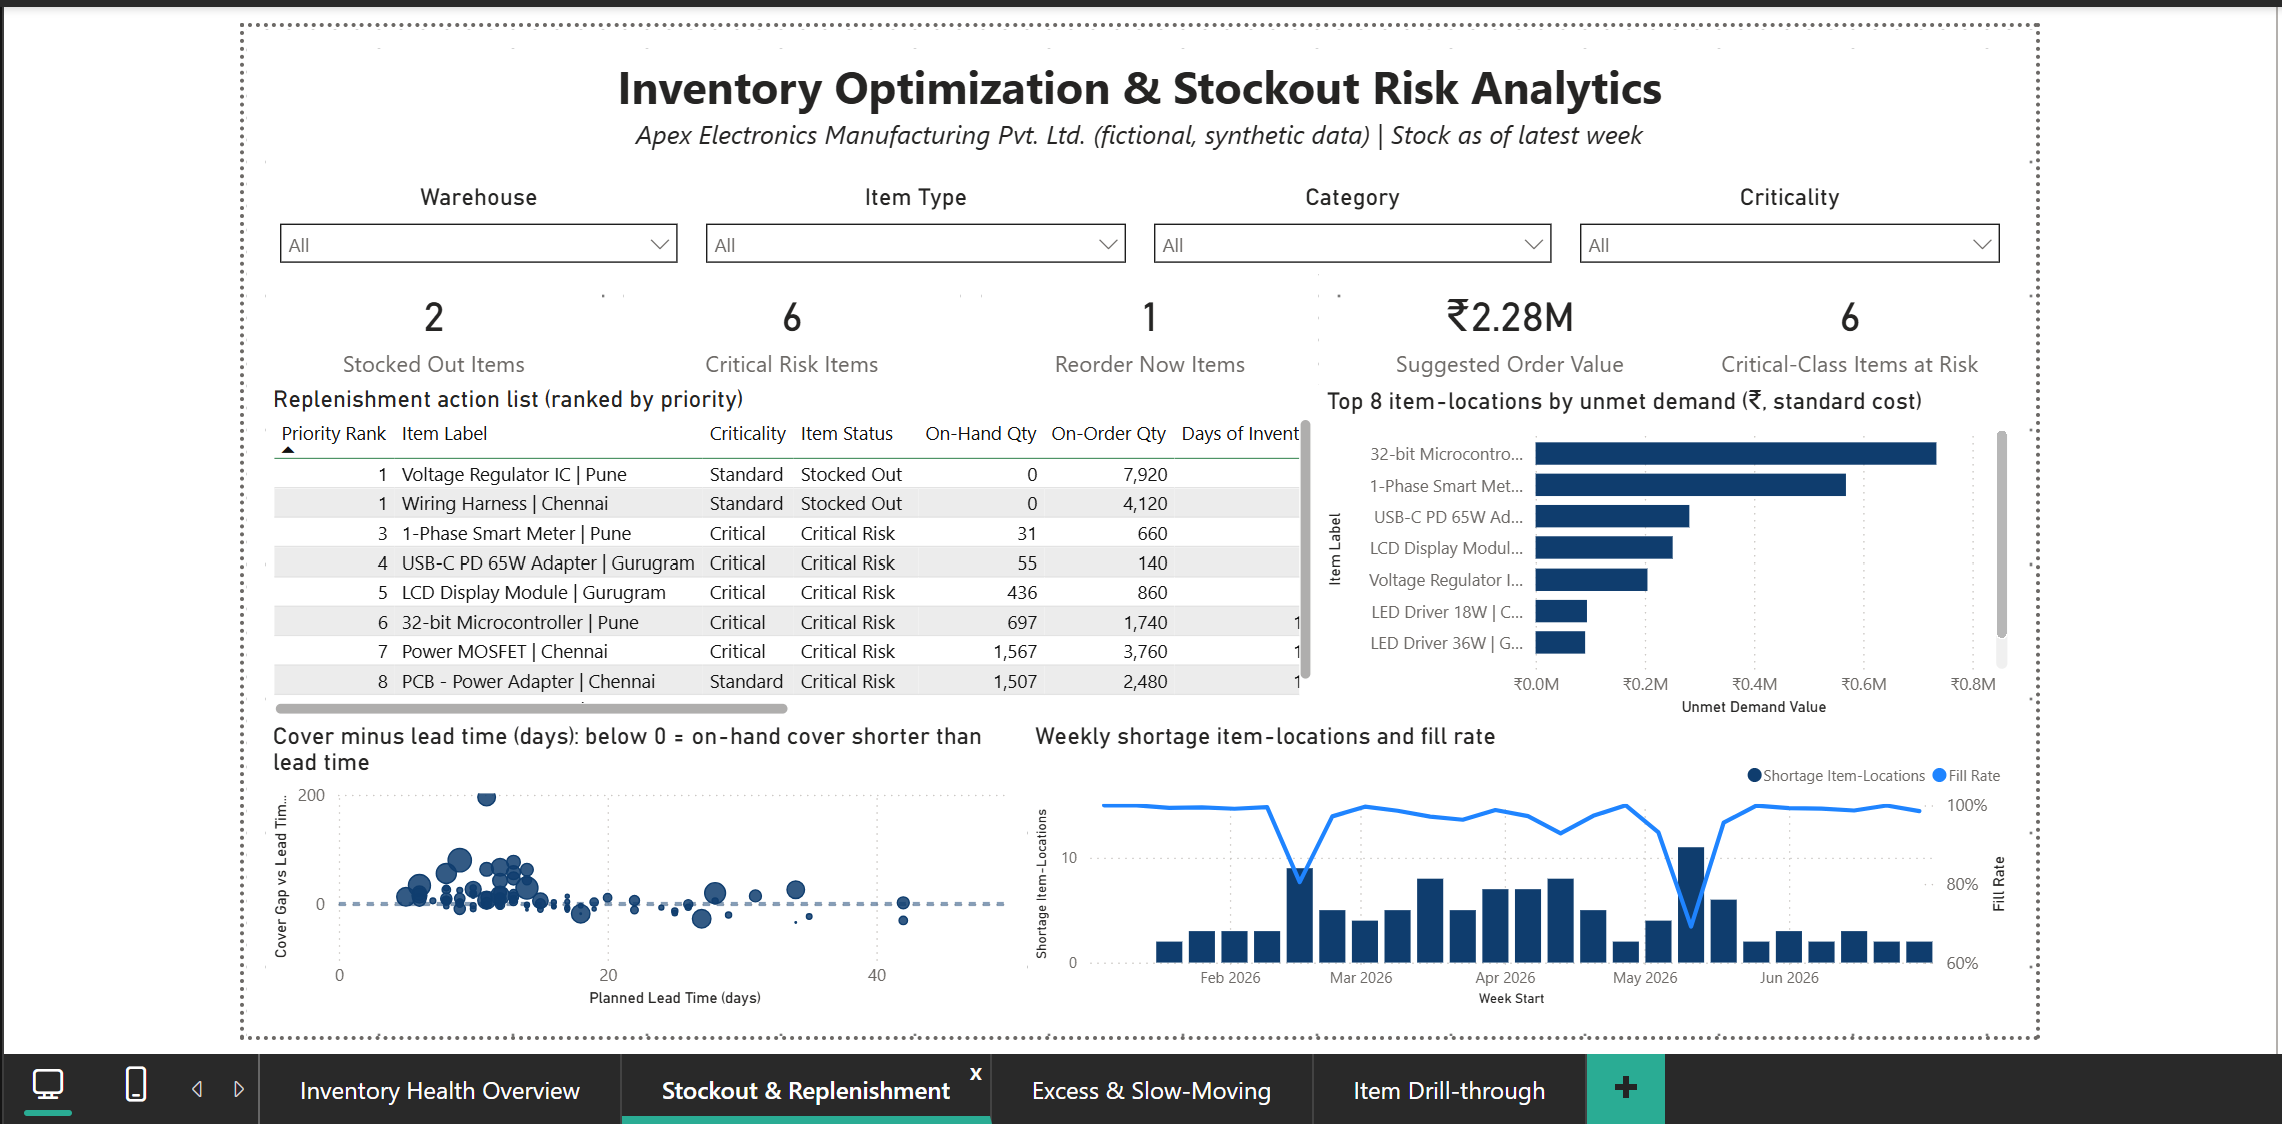

This screenshot's page, from the dashboard's own definition file:
{"tool":"powerbi","page":{"name":"Stockout & Replenishment","canvas":[1280,720],"ordinal":1},"visuals":[{"type":"textbox","box":[16,16,1248,96],"z":0,"group":"g2"},{"type":"card","fields":{"Values":["_Measures.Stocked Out Items"]},"box":[16,176,240,80],"z":0,"group":"g1"},{"type":"tableEx","title":"Replenishment action list (ranked by priority)","fields":{"Values":["_Measures.Priority Rank","dim_item_location.Item Label","dim_item_location.Criticality","_Measures.Item Status","_Measures.On-Hand Qty","_Measures.On-Order Qty","_Measures.Days of Inventory","_Measures.Planned Lead Time (days)","_Measures.Reorder Point Qty","_Measures.Suggested Order Qty","_Measures.Suggested Order Value","_Measures.Recommended Action"]},"box":[16,256,752,240],"z":0},{"type":"slicer","title":"Item Type","fields":{"Values":["dim_item.item_type"]},"box":[320,112,320,65],"z":1000,"group":"g2"},{"type":"group","id":"g1","title":"Group 1","box":[16,176,1248,80],"z":1000},{"type":"card","fields":{"Values":["_Measures.Suggested Order Value"]},"box":[784,176,240,80],"z":1000,"group":"g1"},{"type":"slicer","title":"Category","fields":{"Values":["dim_item.category"]},"box":[640,112,304,65],"z":2000,"group":"g2"},{"type":"card","fields":{"Values":["_Measures.Critical Risk Items"]},"box":[272,176,240,80],"z":2000,"group":"g1"},{"type":"clusteredBarChart","title":"Top 8 item-locations by unmet demand (₹, standard cost)","fields":{"Category":["dim_item_location.Item Label"],"Y":["_Measures.Unmet Demand Value"]},"box":[768,256,496,240],"z":2000},{"type":"slicer","title":"Warehouse","fields":{"Values":["dim_warehouse.city"]},"box":[16,112,304,65],"z":3000,"group":"g2"},{"type":"card","fields":{"Values":["_Measures.Reorder Now Items"]},"box":[528,176,240,80],"z":3000,"group":"g1"},{"type":"scatterChart","title":"Cover minus lead time (days): below 0 = on-hand cover shorter than lead time","fields":{"X":["_Measures.Planned Lead Time (days)"],"Y":["_Measures.Cover Gap vs Lead Time (days)"],"Size":["_Measures.On-Hand Value"],"Category":["dim_item_location.Item Label"]},"box":[16,496,544,208],"z":3000},{"type":"slicer","title":"Criticality","fields":{"Values":["dim_item.criticality"]},"box":[944,112,320,65],"z":4000,"group":"g2"},{"type":"card","fields":{"Values":["_Measures.Critical-Class Items at Risk"]},"box":[1028,176,240,80],"z":4000,"group":"g1"},{"type":"lineClusteredColumnComboChart","title":"Weekly shortage item-locations and fill rate","fields":{"Category":["dim_date.Week Start"],"Y":["_Measures.Shortage Item-Locations"],"Y2":["_Measures.Fill Rate"]},"box":[560,496,704,208],"z":4000},{"type":"group","id":"g2","title":"Group 2","box":[16,16,1248,161],"z":5000}]}

Visuals, with their boxes on the page's 1280x720 design canvas (x1, y1, x2, y2). These are canvas units, not pixel positions in the 2282x1124 screenshot, which may show the page scaled, cropped or inside an application window:
textbox: (x1=16, y1=16, x2=1264, y2=112)
card - _Measures.Stocked Out Items: (x1=16, y1=176, x2=256, y2=256)
"Replenishment action list (ranked by priority)" tableEx: (x1=16, y1=256, x2=768, y2=496)
"Item Type" slicer: (x1=320, y1=112, x2=640, y2=177)
"Group 1" group: (x1=16, y1=176, x2=1264, y2=256)
card - _Measures.Suggested Order Value: (x1=784, y1=176, x2=1024, y2=256)
"Category" slicer: (x1=640, y1=112, x2=944, y2=177)
card - _Measures.Critical Risk Items: (x1=272, y1=176, x2=512, y2=256)
"Top 8 item-locations by unmet demand (₹, standard cost)" clusteredBarChart: (x1=768, y1=256, x2=1264, y2=496)
"Warehouse" slicer: (x1=16, y1=112, x2=320, y2=177)
card - _Measures.Reorder Now Items: (x1=528, y1=176, x2=768, y2=256)
"Cover minus lead time (days): below 0 = on-hand cover shorter than lead time" scatterChart: (x1=16, y1=496, x2=560, y2=704)
"Criticality" slicer: (x1=944, y1=112, x2=1264, y2=177)
card - _Measures.Critical-Class Items at Risk: (x1=1028, y1=176, x2=1268, y2=256)
"Weekly shortage item-locations and fill rate" lineClusteredColumnComboChart: (x1=560, y1=496, x2=1264, y2=704)
"Group 2" group: (x1=16, y1=16, x2=1264, y2=177)
